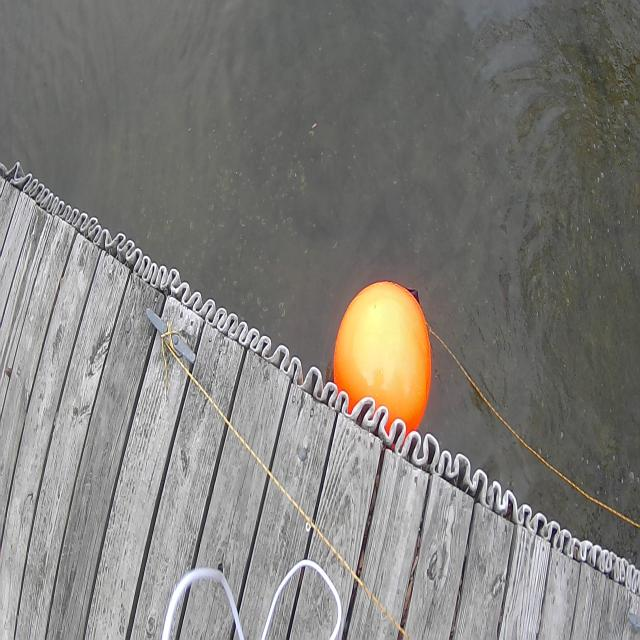Buoy: (330, 271, 438, 450)
